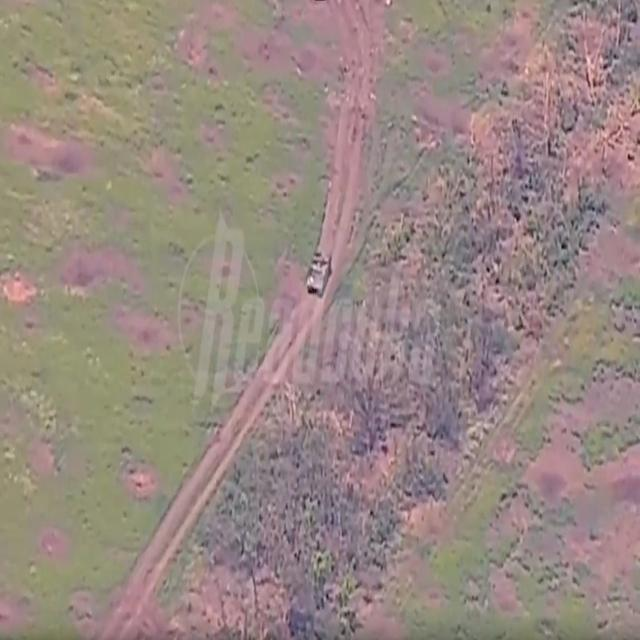APC: (307, 246, 336, 298)
